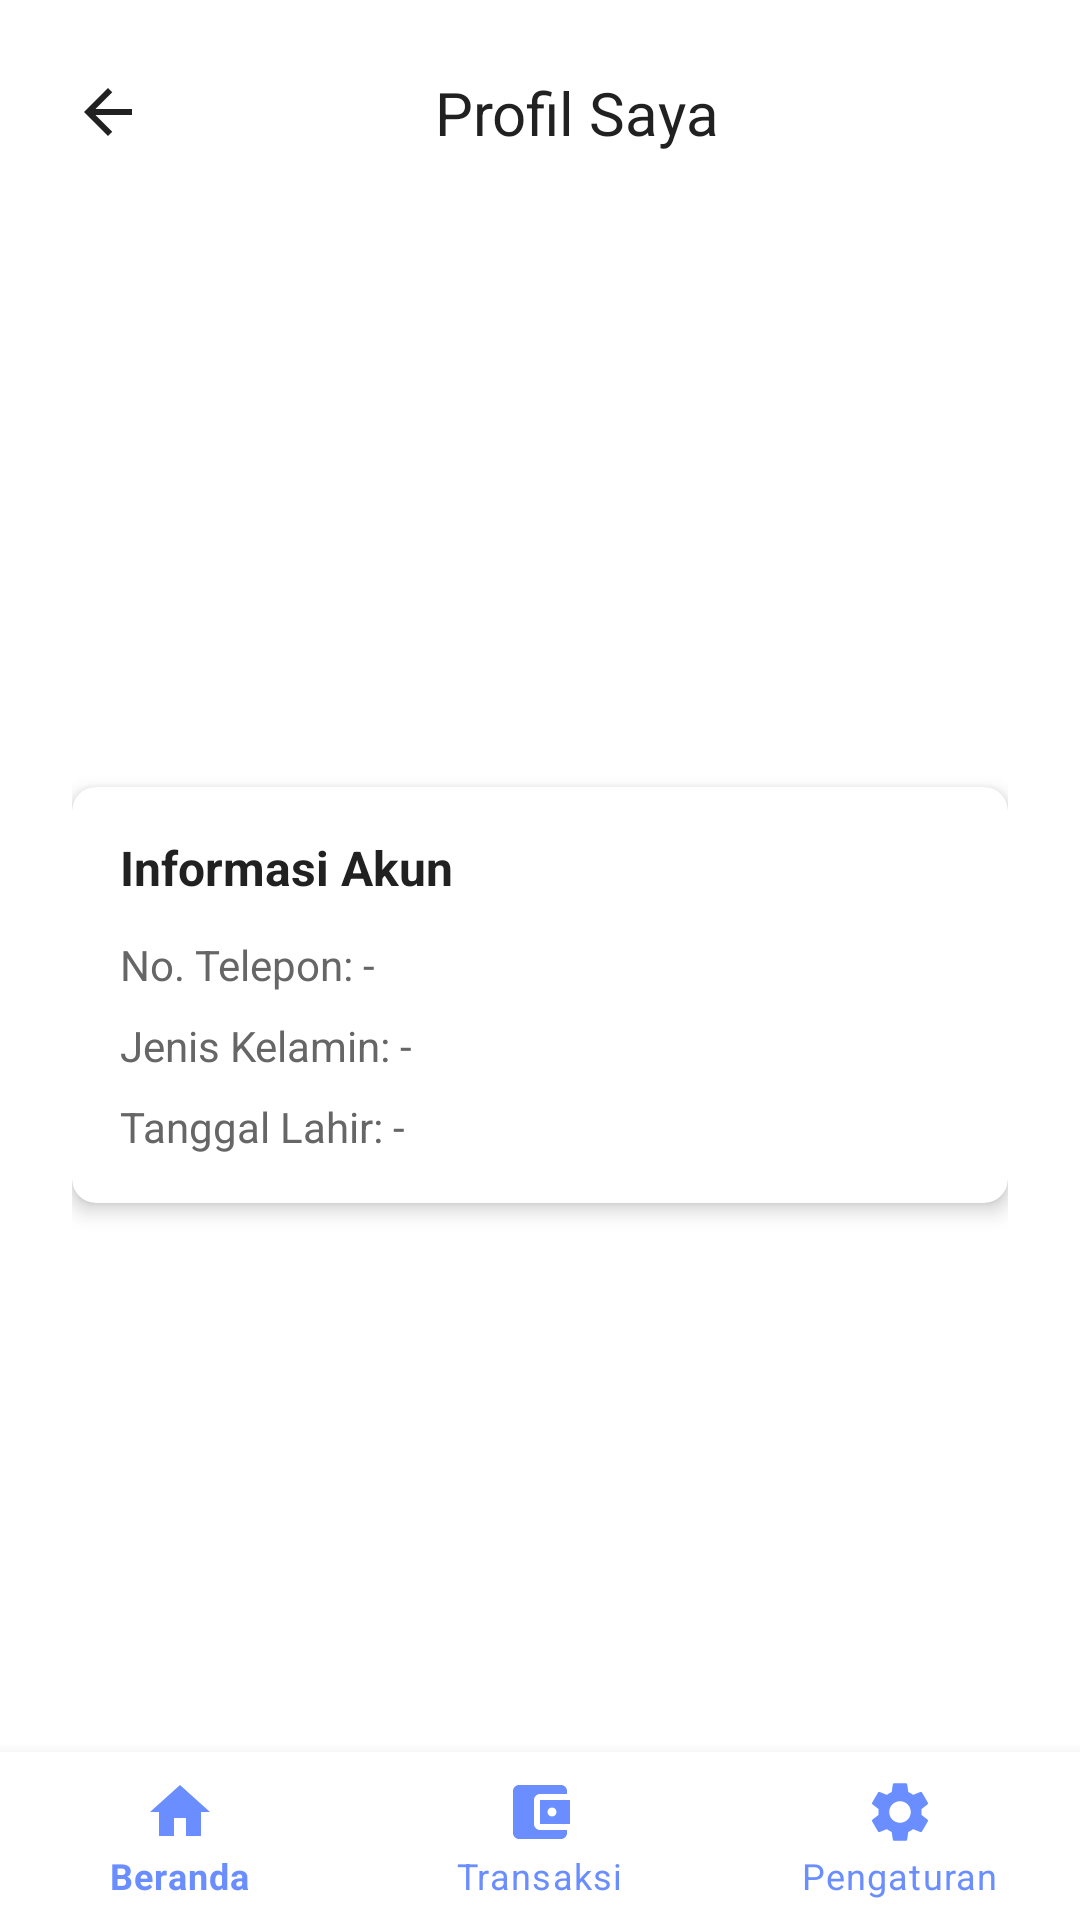

Screen size 1080×1920. Icon name, then its box in pixels as (x1, y1, x2, y2):
Kembali: (84, 88, 132, 136)
